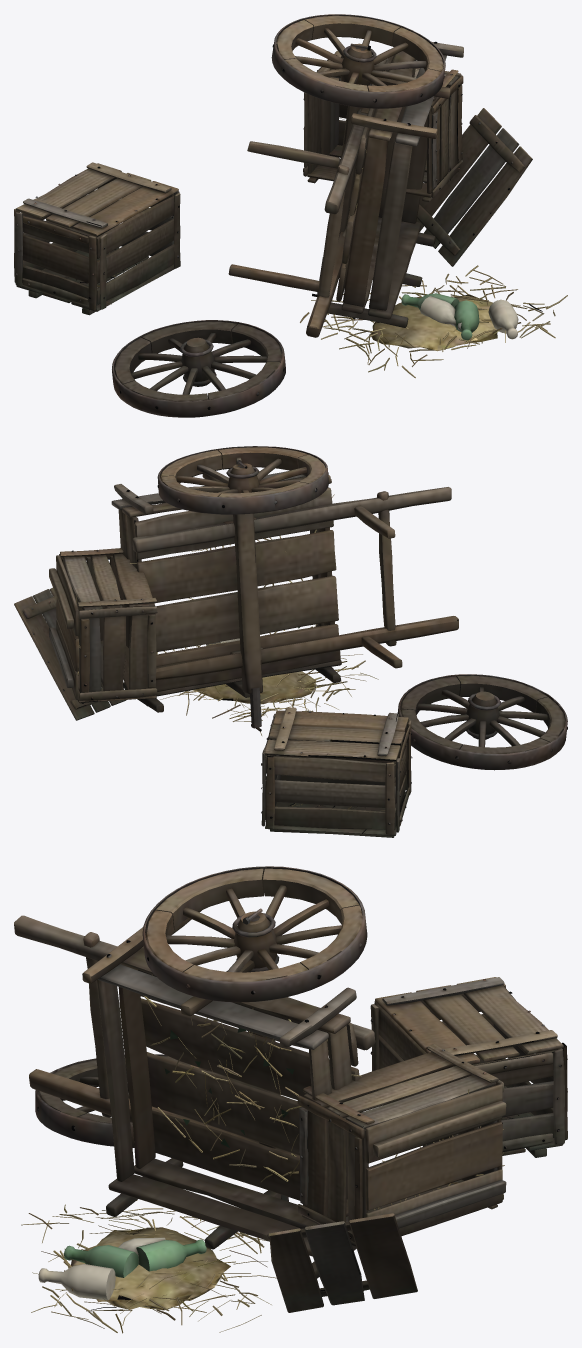
File: cart-overturned.glb
The picture shows the model from 3 angles, top to bottom: view 1: azimuth 30°, elevation 25°; view 2: azimuth 150°, elevation 25°; view 3: azimuth 270°, elevation 25°; orthographic projection. The views are drawn at different scales.
Visible parts, largest first — view 1: cart-overturned, Contents; view 2: cart-overturned; view 3: cart-overturned, Contents.
Part boxes in pixels (x1,y1,x2,y2): cart-overturned: (14, 14, 567, 417); Contents: (401, 293, 518, 340); cart-overturned: (14, 446, 567, 837); cart-overturned: (14, 866, 567, 1333); Contents: (38, 1237, 206, 1300).
Size of the model in its own units: 1.52 by 0.8453 by 1.24.
1 material, 1 textured.
